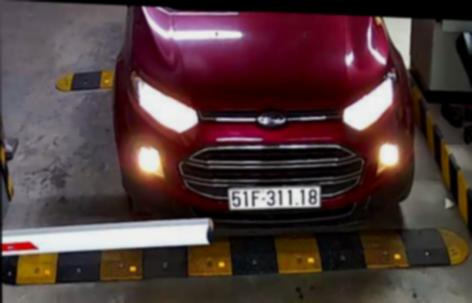License_Plate: (225, 182, 324, 212)
